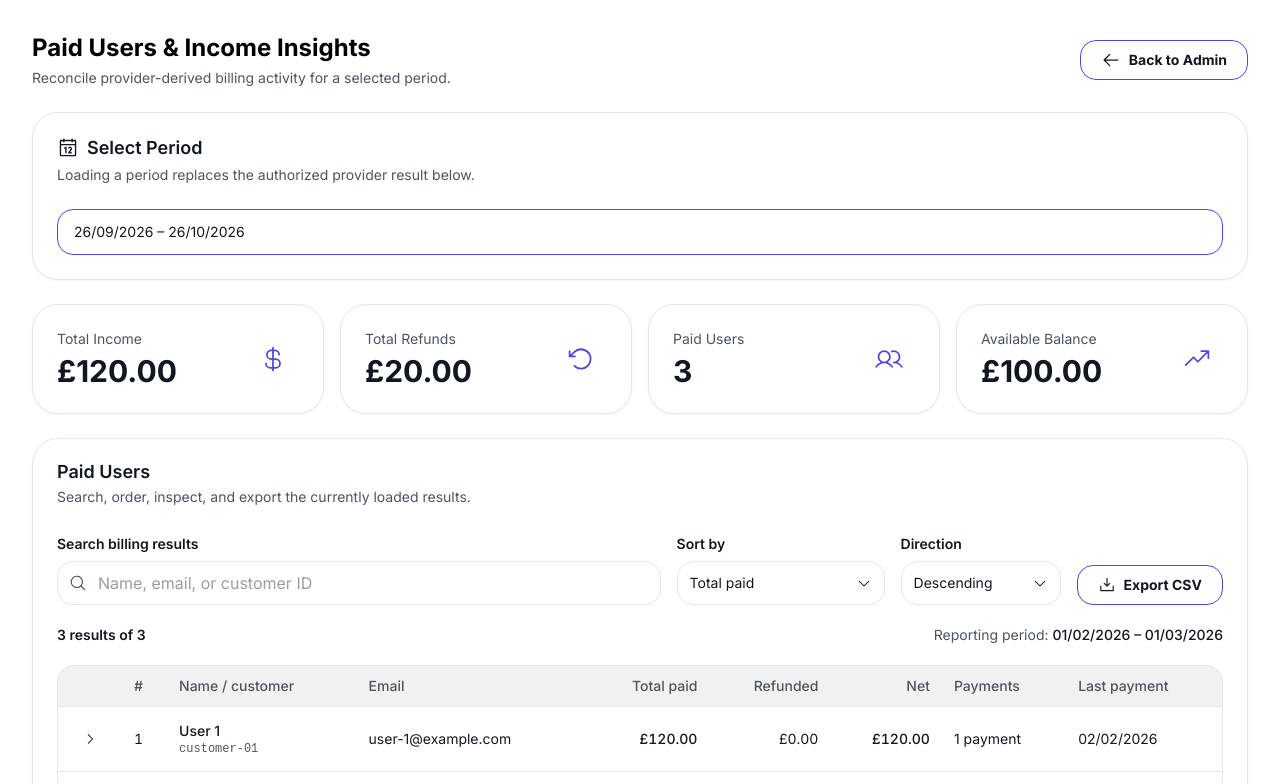
Scenario: PaidUsersManagement › searches the loaded result, reports empty matches, and clears without changing the period
Expected: the text "User 1" is shown, x1=179 y1=722 x2=220 y2=738
Step 1. Type "customer-02" into the field labelled "Search billing results" → (359, 583), box x1=57 y1=561 x2=661 y2=605
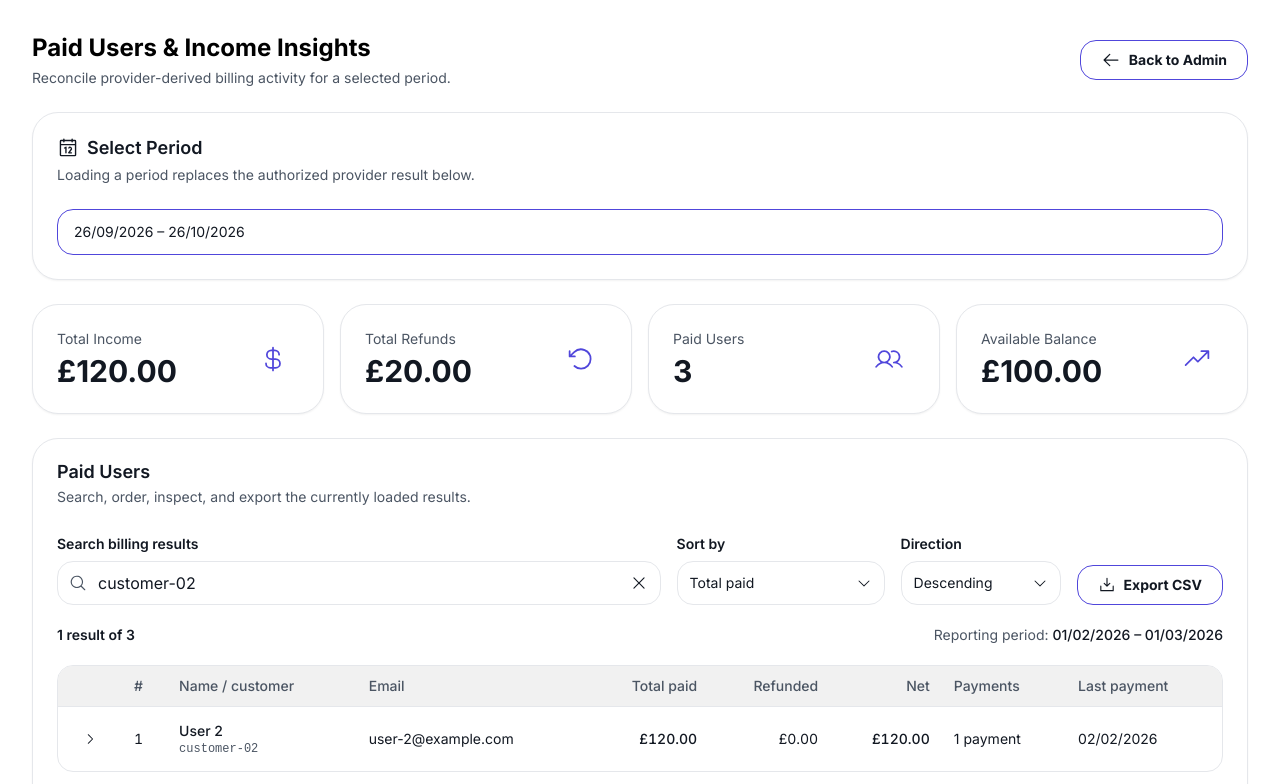
Expected: the text "User 2" is shown, x1=179 y1=722 x2=223 y2=738
Now the text "User 1" is gone
Now the text "1 result of 3" is shown, box x1=57 y1=625 x2=135 y2=645
Step 2. Replace the text in the field labelled "Search billing results" with "missing customer" → (359, 583), box x1=57 y1=561 x2=661 y2=605
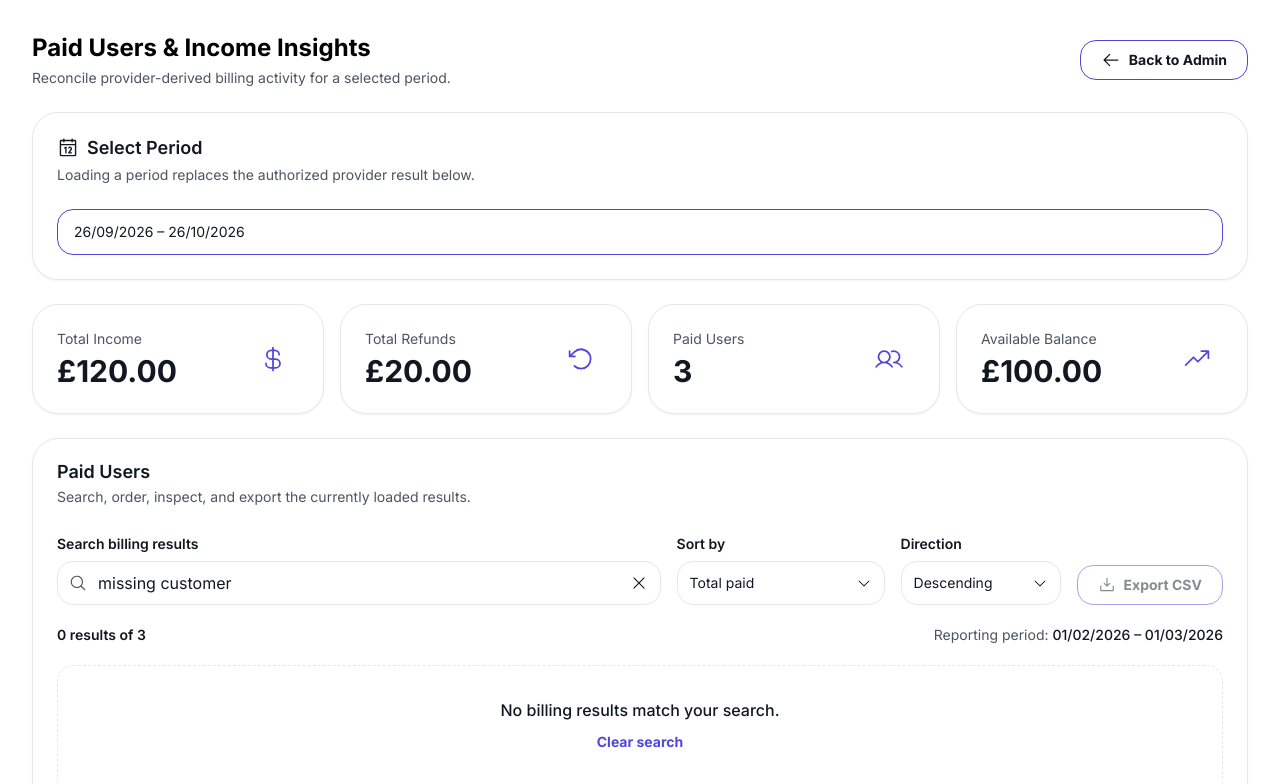
Now the text "No billing results match your search." is shown, box x1=500 y1=700 x2=780 y2=720
Now the button "Export CSV" is disabled, box x1=1077 y1=565 x2=1223 y2=605
Step 3. Click the button "Clear search" → (640, 742), box x1=577 y1=722 x2=703 y2=762
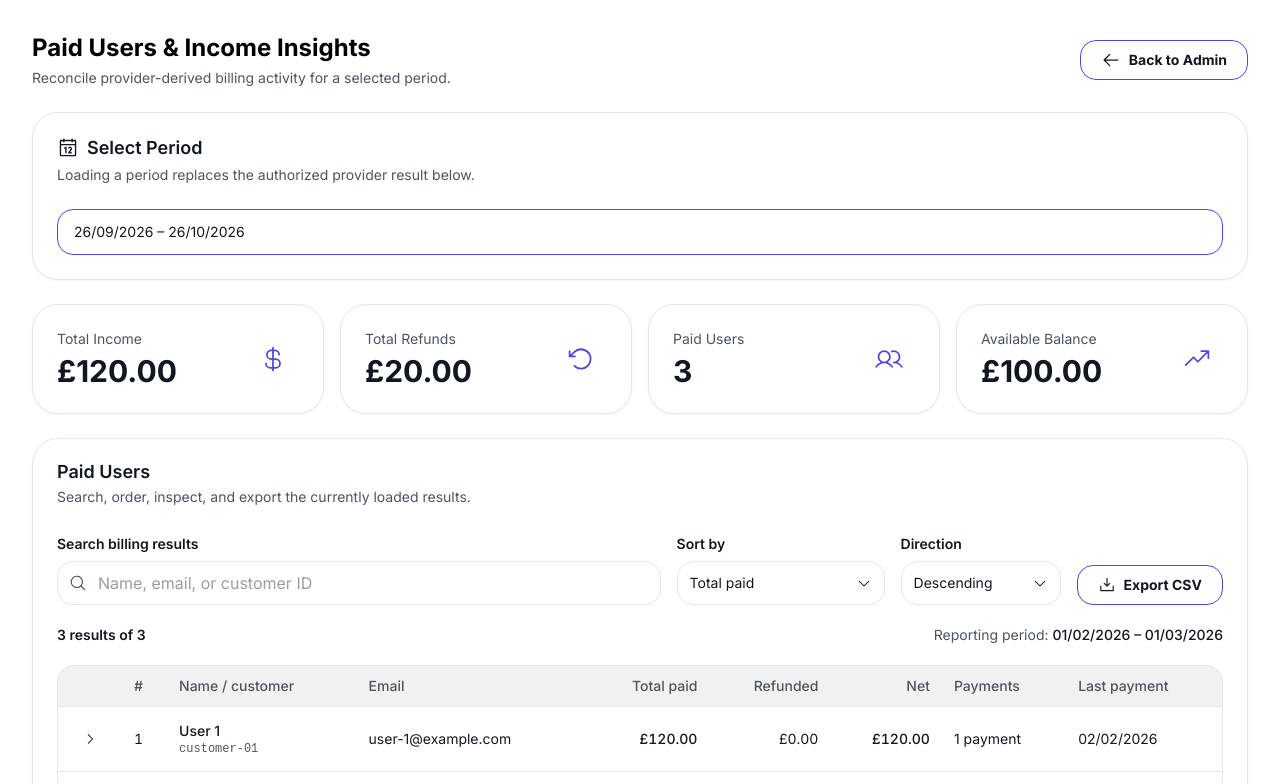
Now the text "User 1" is shown, box x1=179 y1=722 x2=220 y2=738
